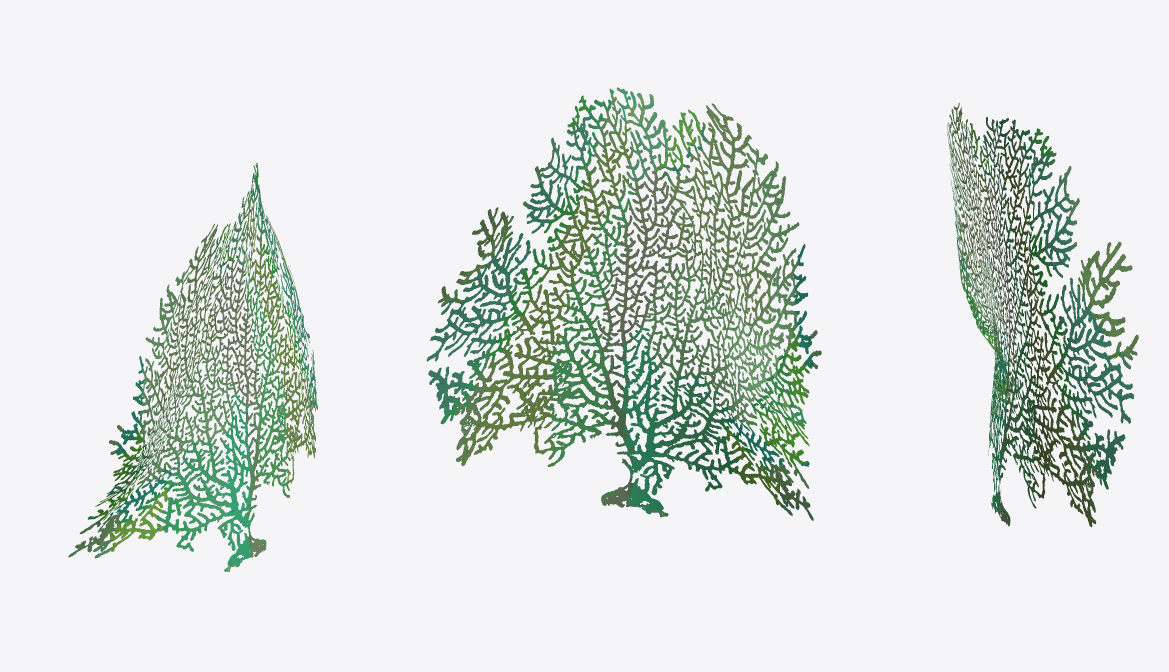
File: 23-SeaFan.fbx
3 renders of one model, left to right at view 1: azimuth 30°, elevation 25°; view 2: azimuth 150°, elevation 25°; view 3: azimuth 270°, elevation 25°, orthographic. The views are drawn at different scales.
Parts seen in each view (by area): view 1: 23-SeaFan_LOD00; view 2: 23-SeaFan_LOD00; view 3: 23-SeaFan_LOD00.
Boxes of the visible parts, x1=… form: 23-SeaFan_LOD00: x1=68, y1=163, x2=317, y2=571; 23-SeaFan_LOD00: x1=426, y1=87, x2=821, y2=520; 23-SeaFan_LOD00: x1=947, y1=103, x2=1138, y2=527.
Size of the model in its own units: 61.18 by 79.55 by 26.59.
